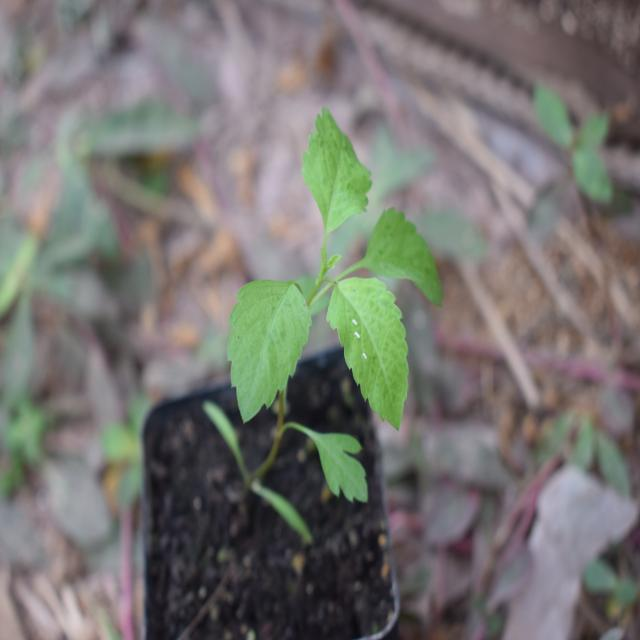Bidens pilosa: (209, 111, 454, 499)
